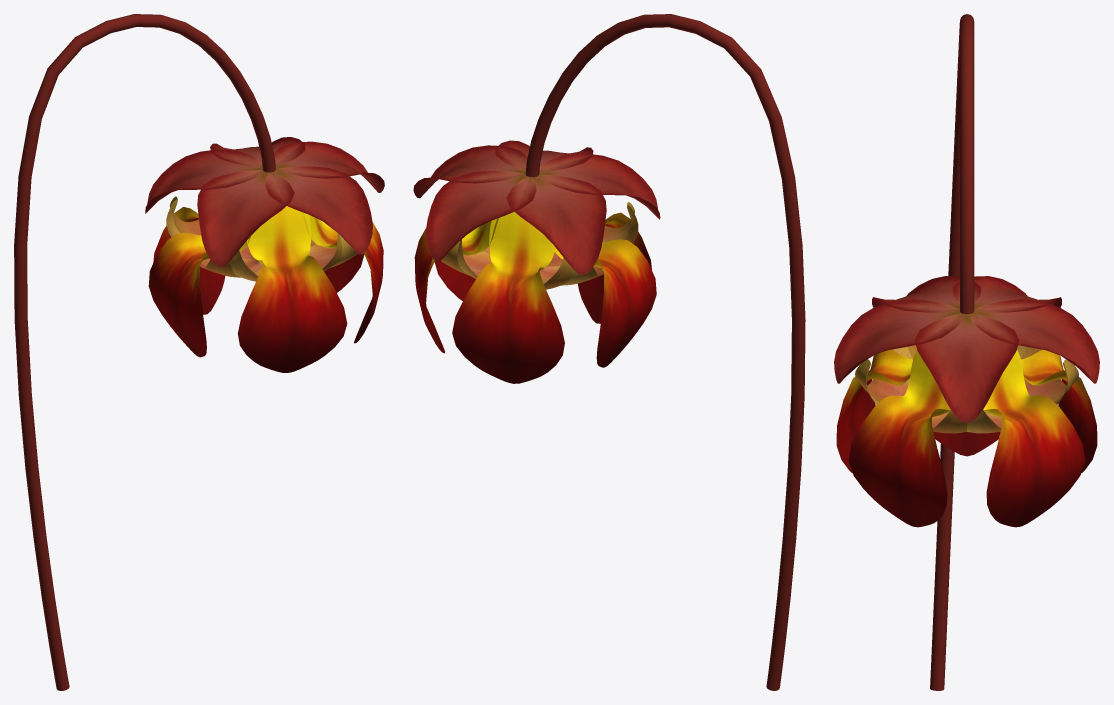
File: flower_v002.glb
3 views of the same model, side by side, from view 1: azimuth 30°, elevation 25°; view 2: azimuth 150°, elevation 25°; view 3: azimuth 270°, elevation 25° (orthographic). The views are drawn at different scales.
Visible parts, largest first — view 1: petals, sepal, scape, pistol; view 2: petals, sepal, scape, pistol; view 3: petals, sepal, scape, pistol.
Part boxes in pixels (<box>): petals: <box>148,206,383,372</box>; sepal: <box>145,137,384,267</box>; scape: <box>14,14,275,690</box>; pistol: <box>166,196,357,281</box>; petals: <box>414,211,656,383</box>; sepal: <box>413,140,660,274</box>; scape: <box>525,14,805,690</box>; pistol: <box>441,202,638,289</box>; petals: <box>836,349,1097,527</box>; sepal: <box>834,276,1099,422</box>; scape: <box>930,14,974,690</box>; pistol: <box>855,345,1078,433</box>.
Bounding box in the file's own units: 3.23 × 5.39 × 1.86.
4 materials, 3 textured.
